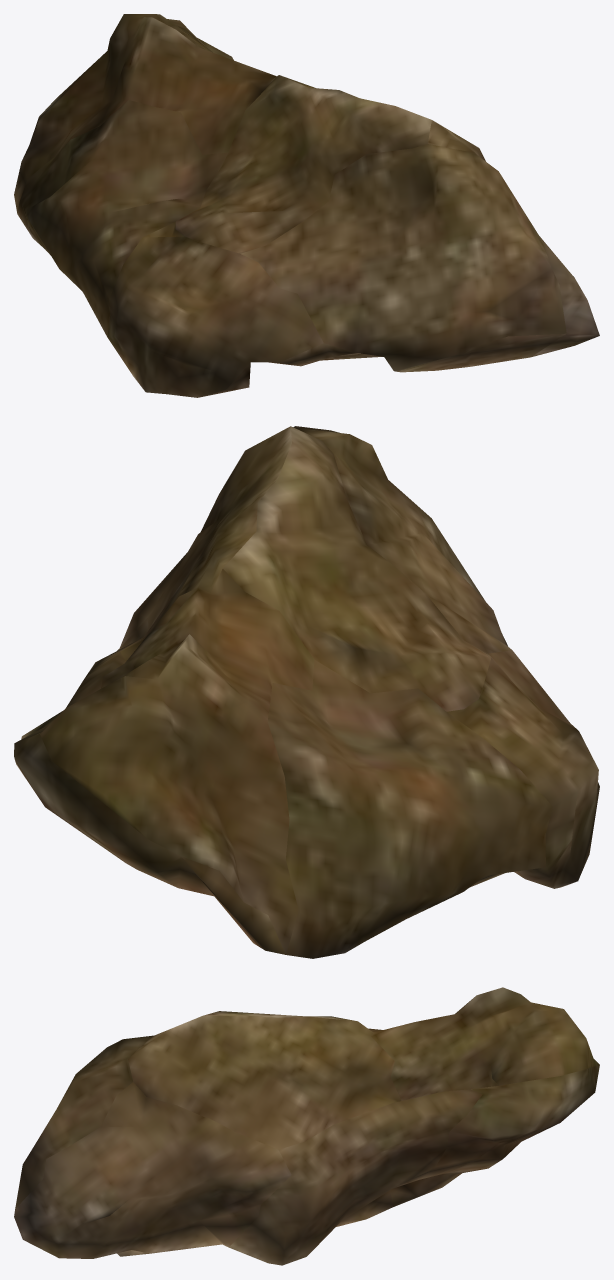
The model's file is rock_moss_set_01_rock01.glb.
3 renders of one model, top to bottom at view 1: azimuth 30°, elevation 25°; view 2: azimuth 150°, elevation 25°; view 3: azimuth 270°, elevation 25°, orthographic. The views are drawn at different scales.
Visible parts, largest first — view 1: rock_moss_set_01_rock01; view 2: rock_moss_set_01_rock01; view 3: rock_moss_set_01_rock01.
Boxes of the visible parts, left/top/right/bottom form: rock_moss_set_01_rock01: left=14, top=14, right=599, bottom=397; rock_moss_set_01_rock01: left=14, top=426, right=599, bottom=958; rock_moss_set_01_rock01: left=14, top=987, right=599, bottom=1265.
Bounding box in the file's own units: 2.24 × 1.47 × 3.36.
Materials: 1 (1 with a texture image).
